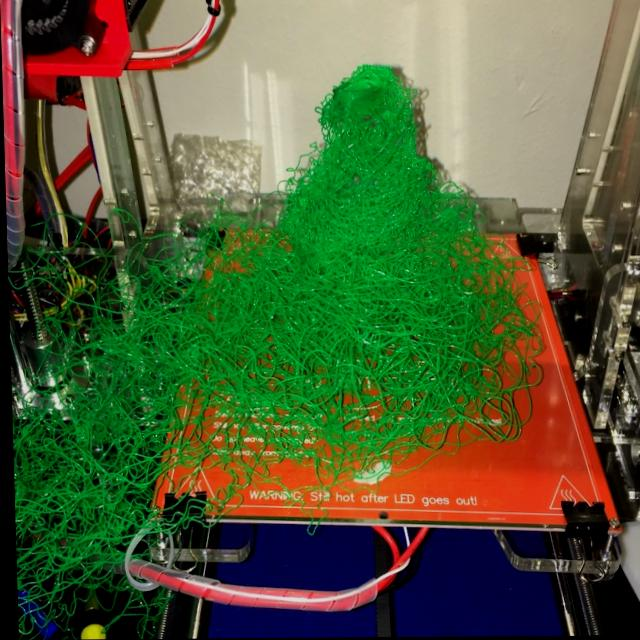spaghetti: (1, 19, 506, 638)
